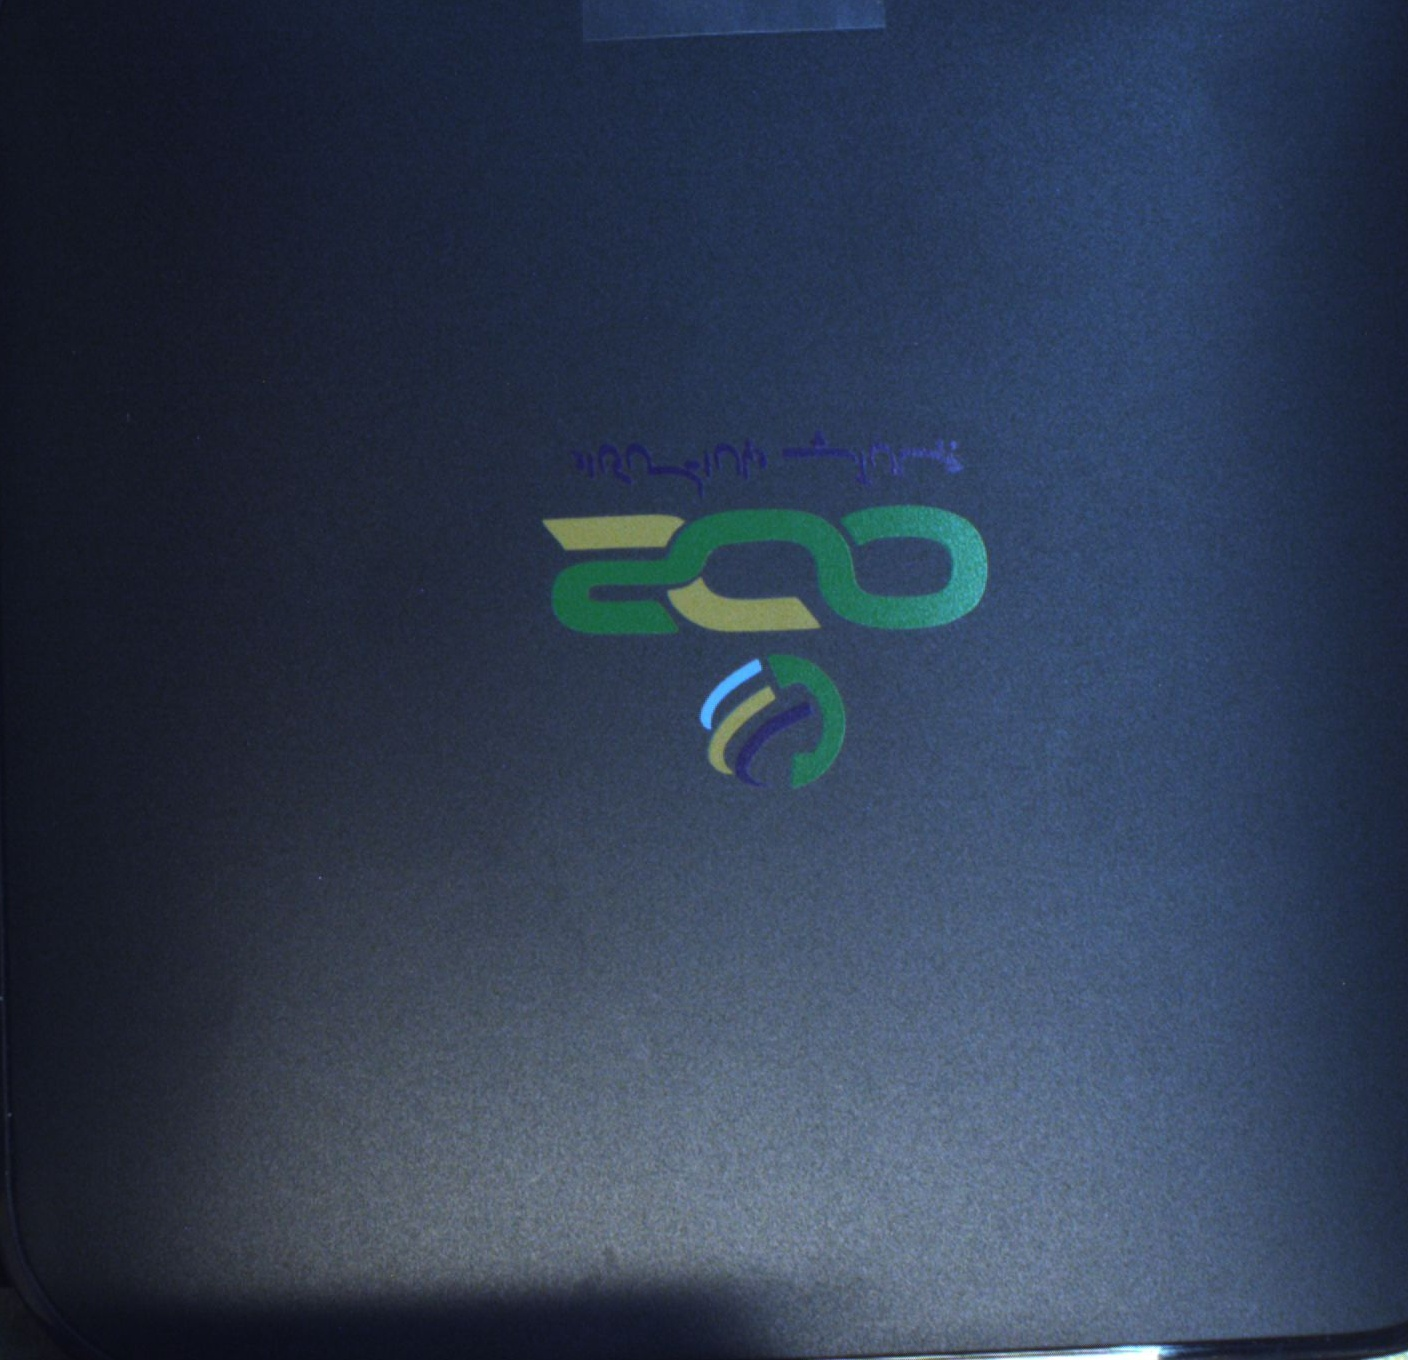BZ_HG680PSCOFirbeHome: (503, 410, 1013, 793)
